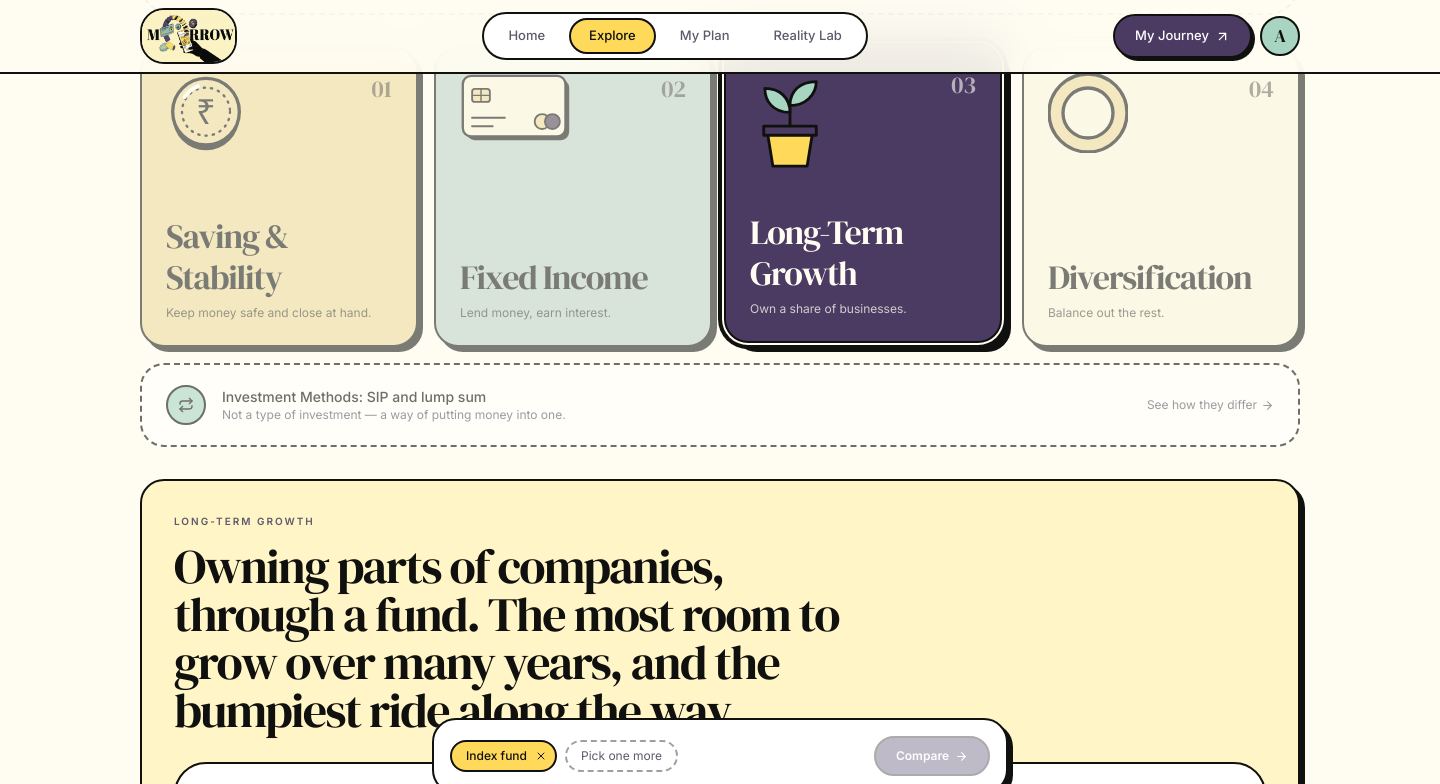
Test: Investment Explorer › keeps SIP comparable only with another method
(page scrolled)
Click the button "Not a type of investment".
click(186, 405)  # box [140, 363, 1300, 447]
(page scrolled)
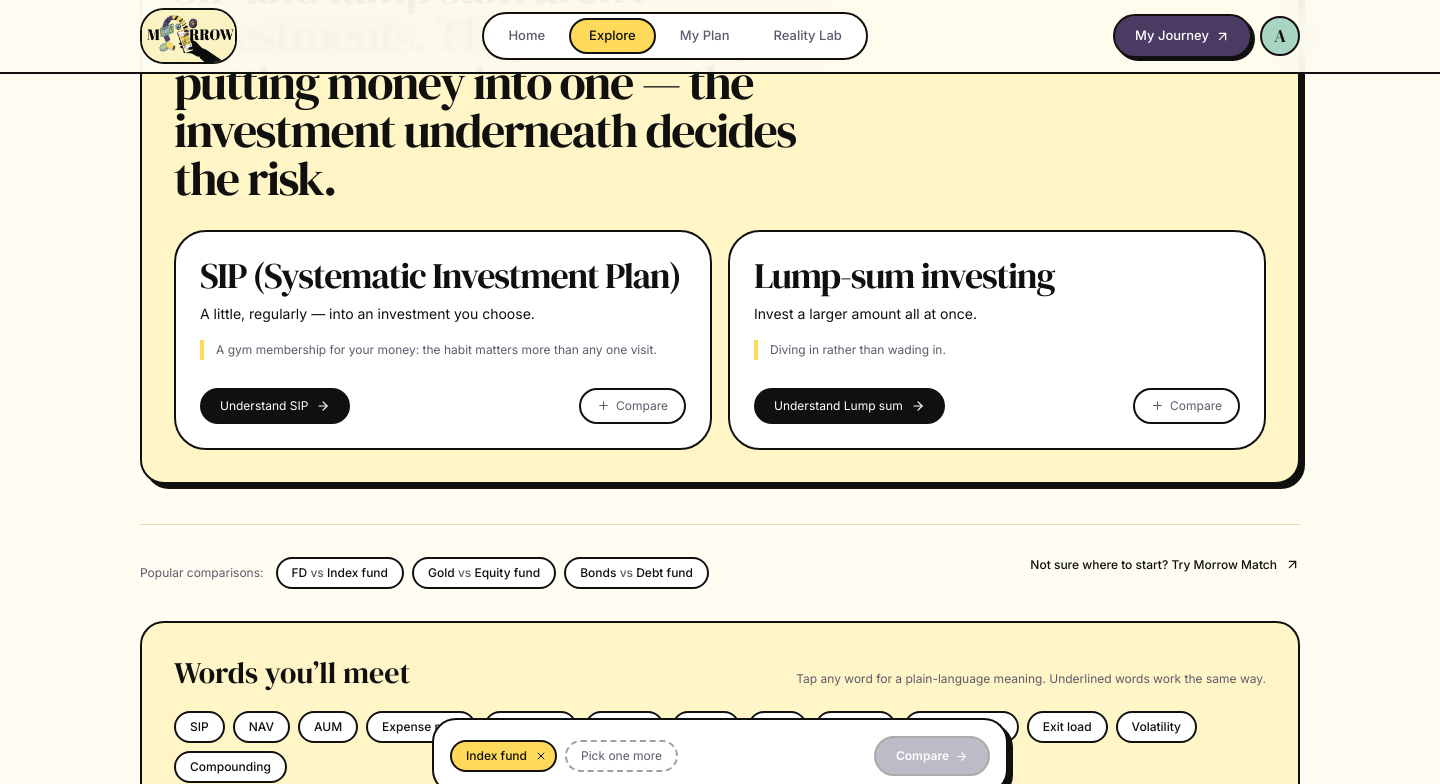
Click the button with aria-label "Add SIP to comparison".
click(632, 406)  # box [579, 388, 686, 424]
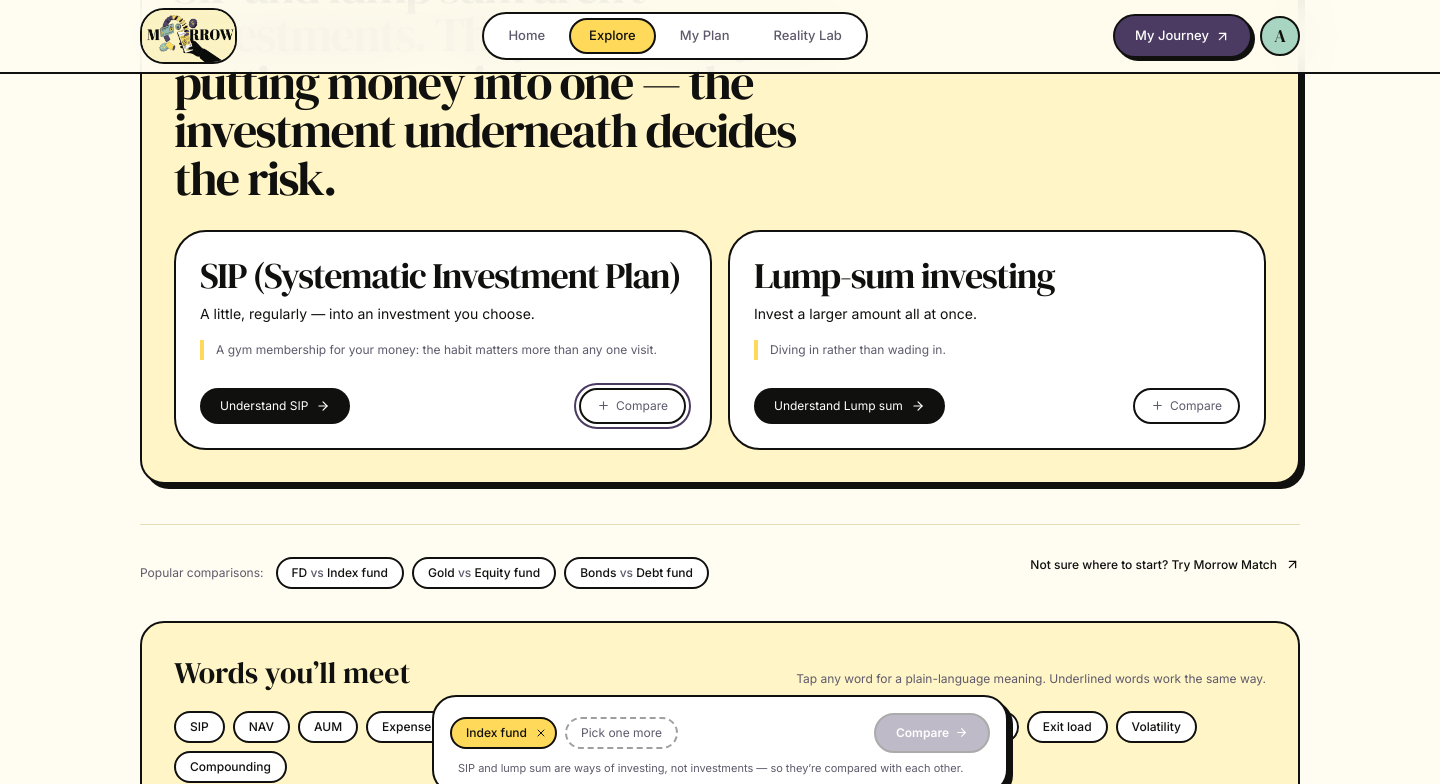
Expected: the text "ways of investing, not investments" is shown, [458, 761, 963, 775]
